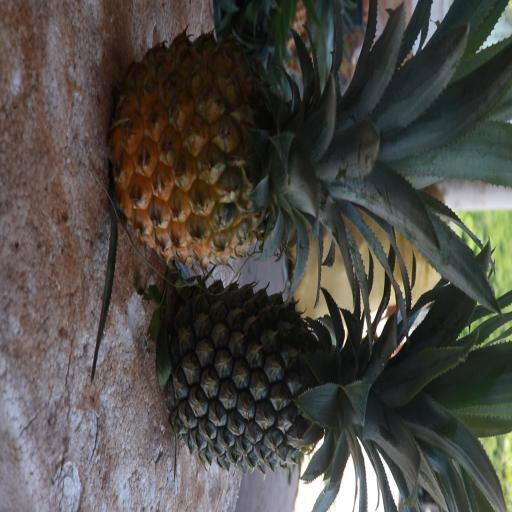Pineapple - v8 v1: (120, 43, 453, 257)
